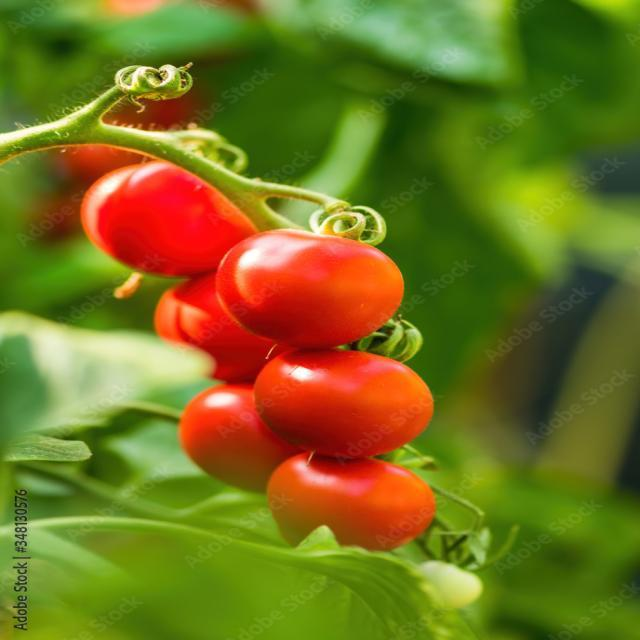kirmizi: (72, 120, 442, 558)
